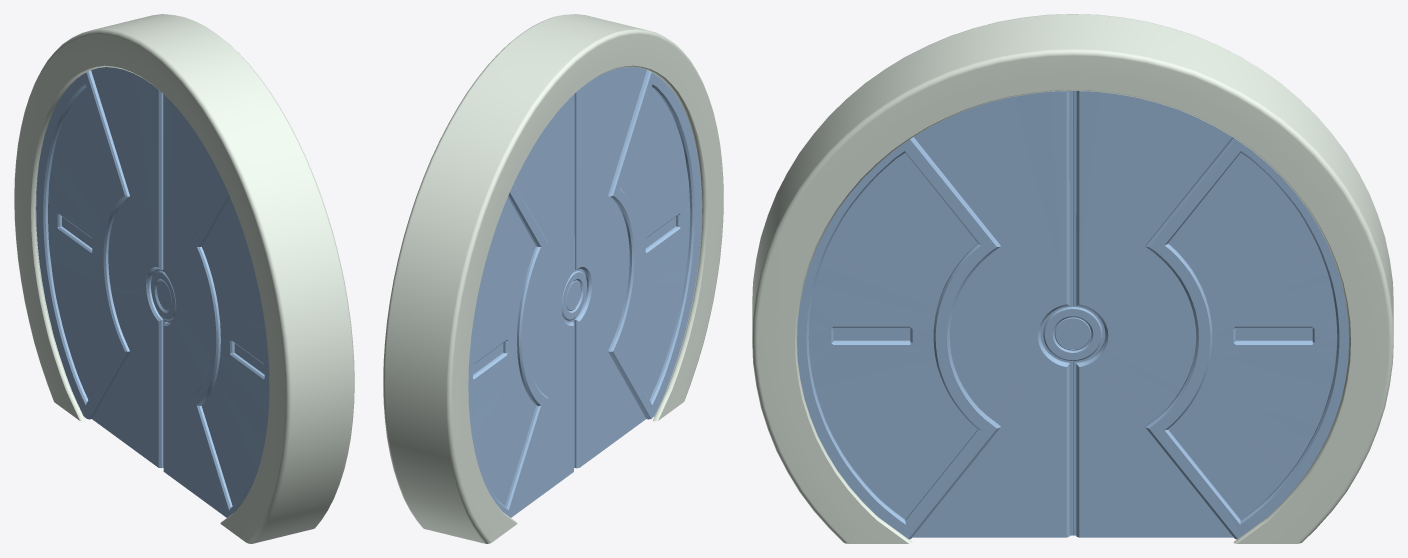
Rendered from combined_door_static.fbx.
3 renders of one model, left to right at view 1: azimuth 30°, elevation 25°; view 2: azimuth 150°, elevation 25°; view 3: azimuth 270°, elevation 25°, orthographic. The views are drawn at different scales.
Parts seen in each view (by area): view 1: Body_Door_01_Frame_reference.smd, Body_SM_Fixture_RoundDoor_B.smd, Body_SM_Fixture_RoundDoor_A.smd; view 2: Body_Door_01_Frame_reference.smd, Body_SM_Fixture_RoundDoor_A.smd, Body_SM_Fixture_RoundDoor_B.smd; view 3: Body_SM_Fixture_RoundDoor_B.smd, Body_SM_Fixture_RoundDoor_A.smd, Body_Door_01_Frame_reference.smd.
Part boxes in pixels (x1,y1,x2,y2): Body_Door_01_Frame_reference.smd: (14, 14, 354, 543); Body_SM_Fixture_RoundDoor_B.smd: (36, 67, 164, 468); Body_SM_Fixture_RoundDoor_A.smd: (163, 95, 269, 517); Body_Door_01_Frame_reference.smd: (383, 14, 723, 543); Body_SM_Fixture_RoundDoor_A.smd: (573, 67, 701, 468); Body_SM_Fixture_RoundDoor_B.smd: (468, 95, 574, 517); Body_SM_Fixture_RoundDoor_B.smd: (1073, 91, 1348, 539); Body_SM_Fixture_RoundDoor_A.smd: (797, 91, 1072, 539); Body_Door_01_Frame_reference.smd: (752, 14, 1393, 543).
Size of the model in its own units: 34.93 by 206 by 243.
